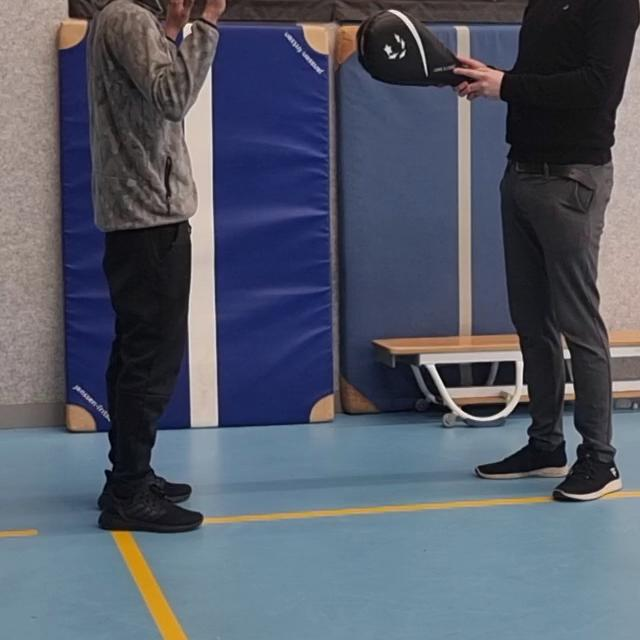paddle: (355, 8, 474, 89)
